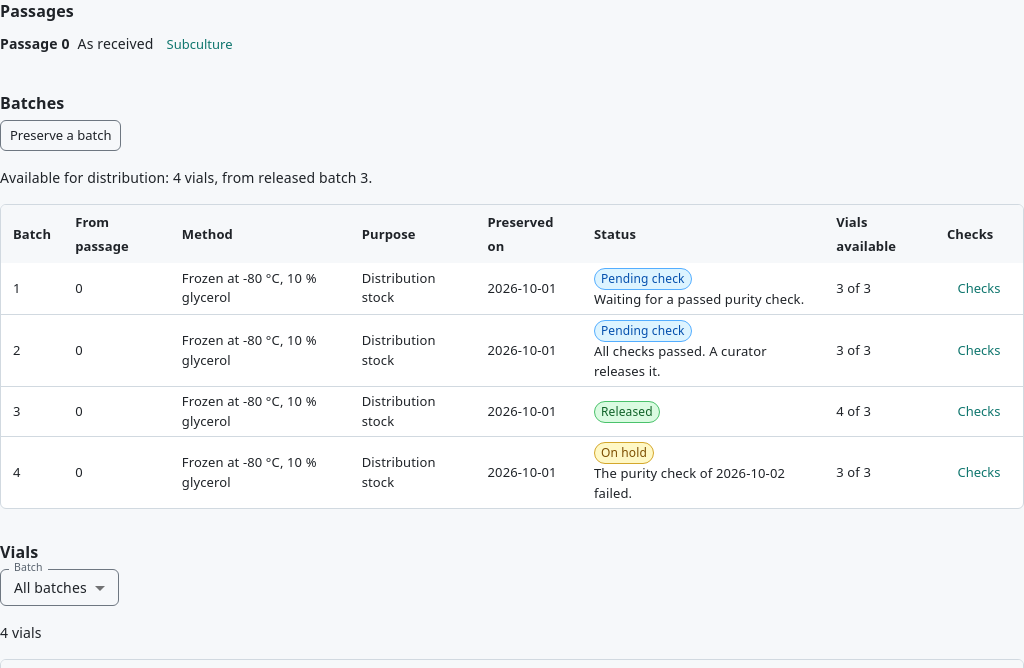
Test: the checks of a batch › shows a failed history load with a retry
Click the button with aria-label "Checks of batch 1" at point(979, 288), box [947, 273, 1011, 304]
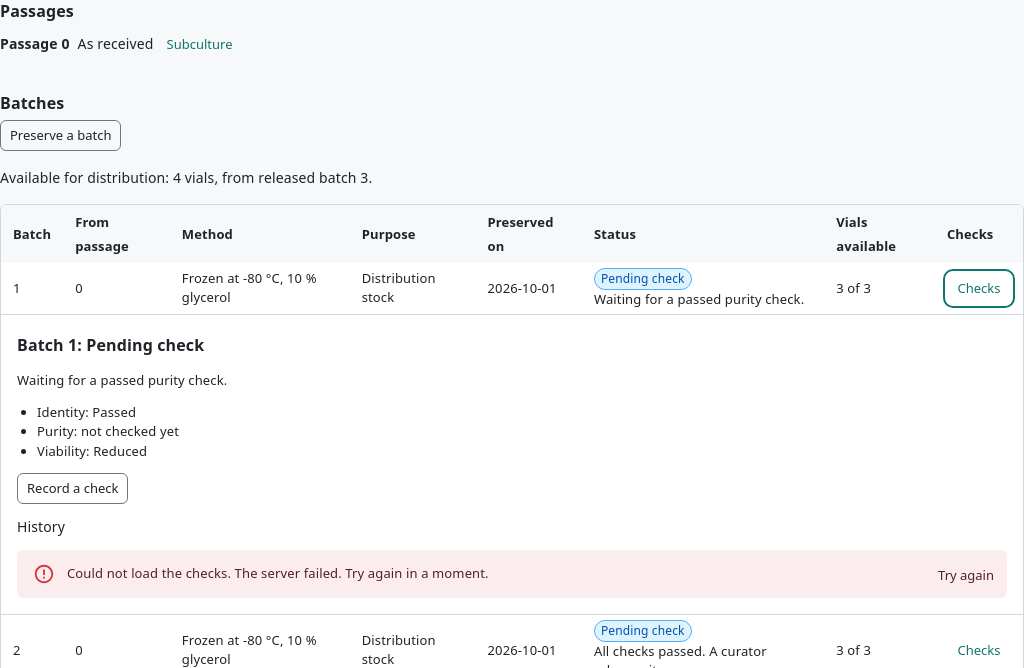
Expected: the text "Could not load the checks" is shown, [67, 564, 489, 582]
Click the button "Try again" at point(966, 575), box [933, 560, 999, 591]
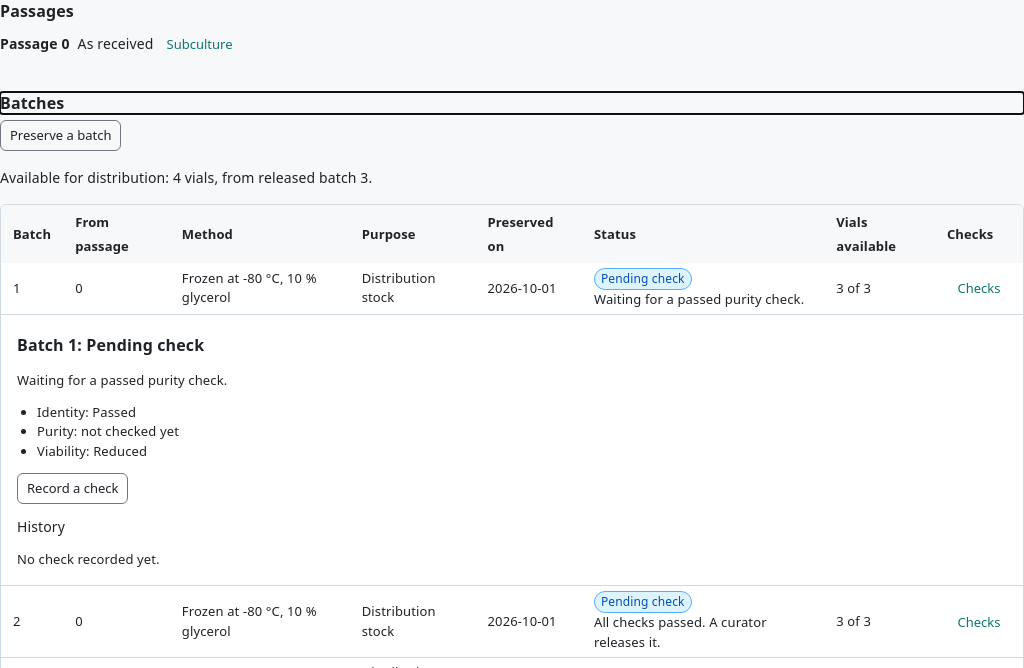
Expected: the text "No check recorded yet." is shown, [17, 550, 160, 568]
